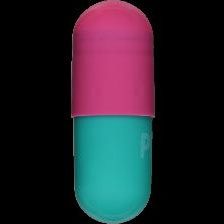16590-890: (0, 0, 224, 224)
